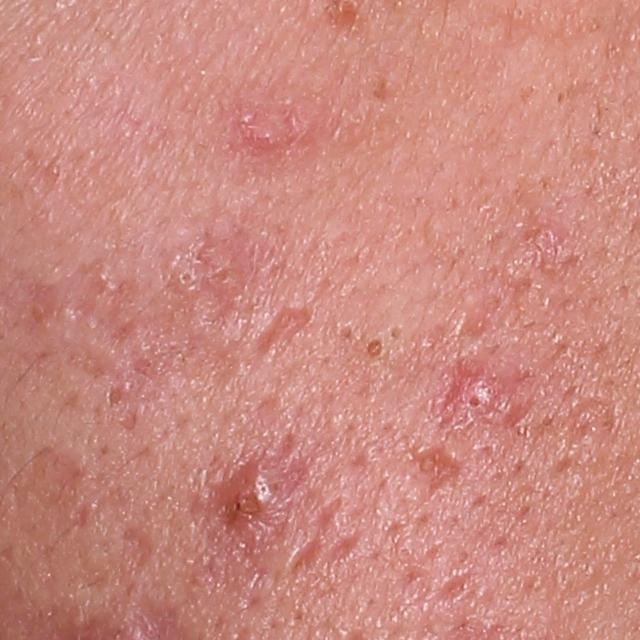atrophic_scar: (283, 498, 343, 577), (555, 393, 617, 442), (253, 305, 313, 355), (453, 287, 508, 341), (411, 449, 460, 506), (122, 523, 159, 571), (430, 574, 473, 603), (502, 395, 538, 429)
comedo: (360, 333, 389, 363), (385, 321, 409, 345), (505, 2, 528, 23), (177, 266, 198, 288)
papule: (215, 472, 283, 529), (444, 363, 506, 421), (249, 119, 287, 161)
